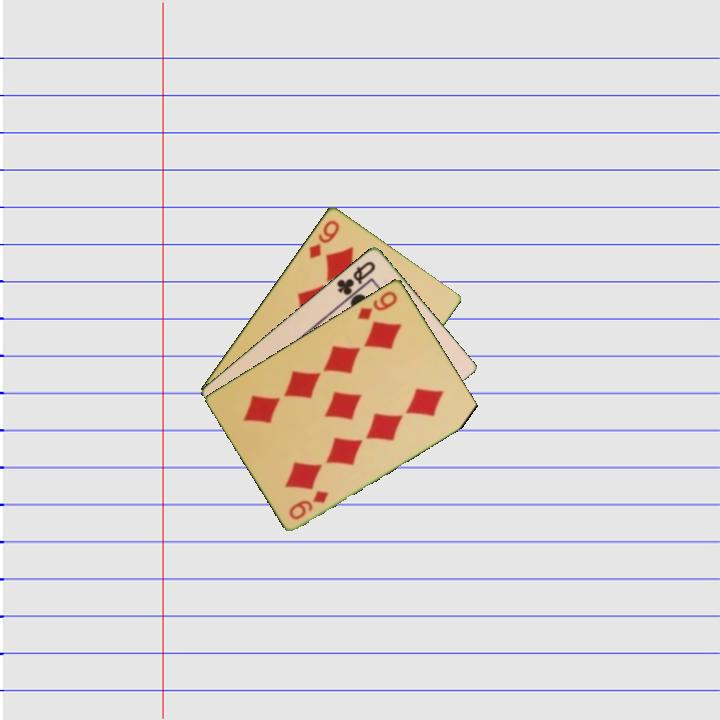9d: (305, 216, 342, 261), (285, 486, 331, 522), (354, 287, 400, 322)
Qc: (333, 257, 379, 298)
